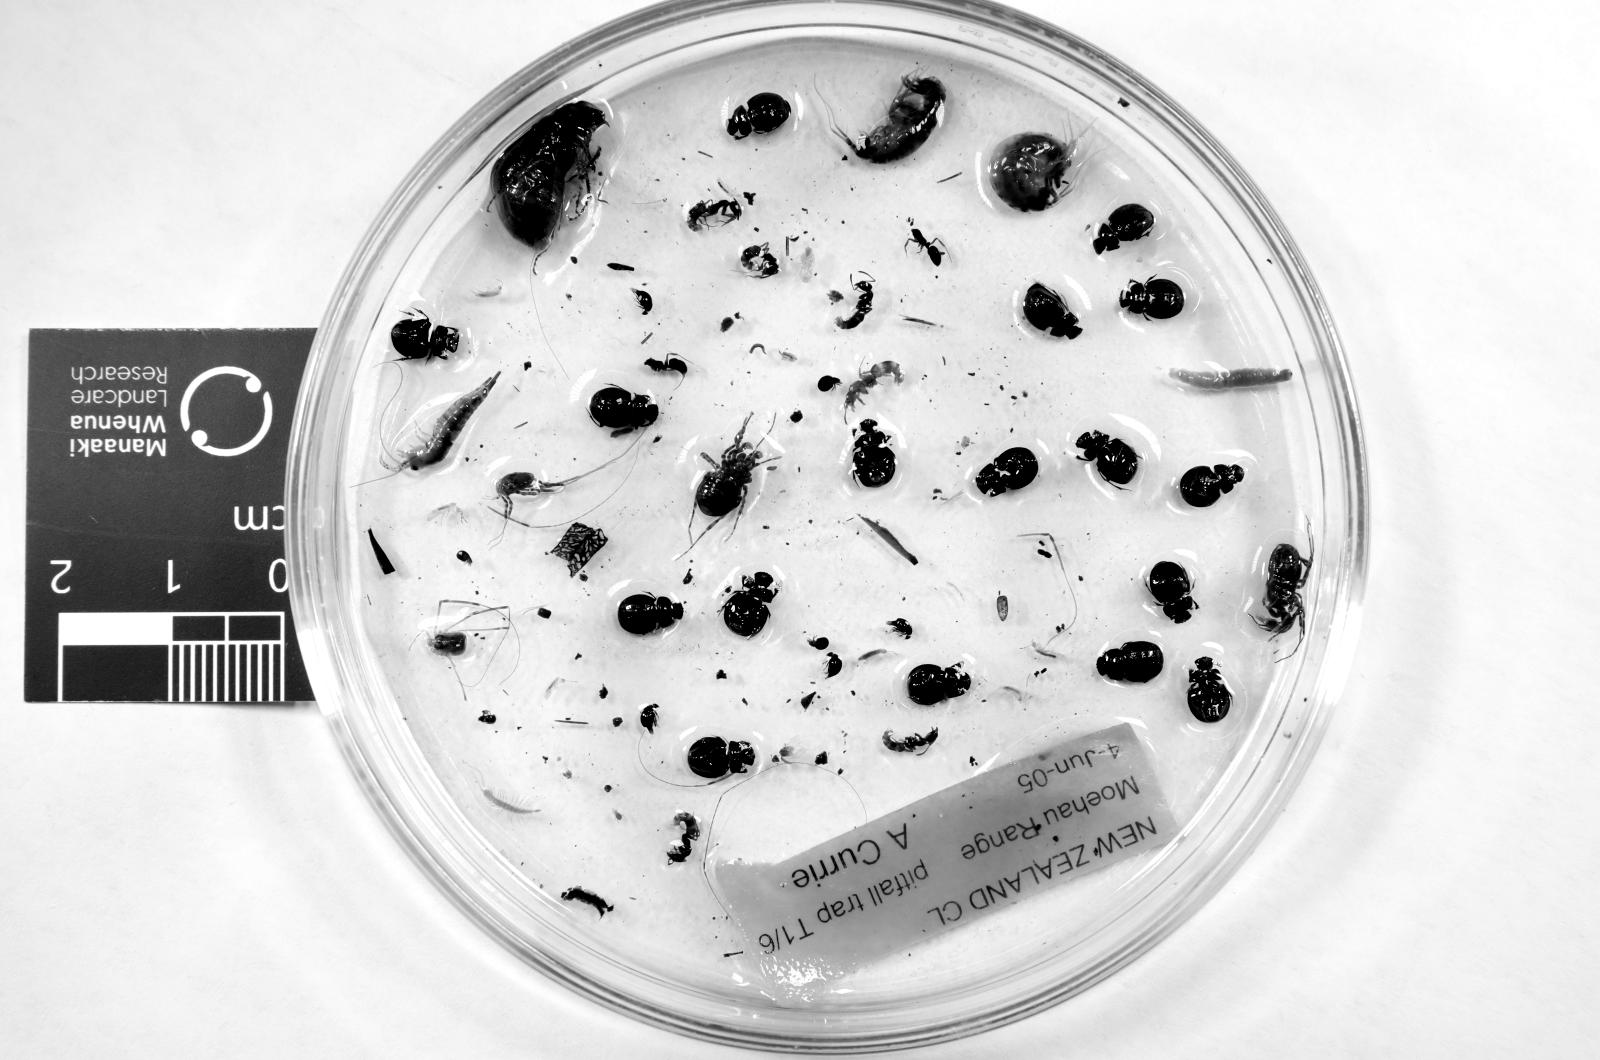amphipoda: (853, 75, 947, 164), (991, 134, 1069, 211)
archaeognatha: (407, 376, 497, 468)
chilopoda: (478, 780, 538, 816)
coleoptera: (491, 103, 607, 252), (721, 571, 778, 636), (1075, 432, 1138, 485), (588, 386, 660, 432), (1022, 283, 1081, 338), (974, 447, 1037, 497), (1147, 562, 1197, 625), (687, 736, 757, 780), (853, 419, 896, 487), (1094, 205, 1153, 254), (390, 317, 459, 360), (1187, 658, 1231, 724), (728, 93, 791, 140), (1119, 277, 1185, 319), (618, 593, 685, 634), (1097, 642, 1162, 684), (1178, 466, 1244, 506), (906, 665, 972, 705), (887, 618, 913, 640), (641, 705, 660, 733), (631, 289, 653, 314), (825, 652, 843, 677)
collembola: (428, 503, 462, 522), (1031, 642, 1065, 658), (1000, 686, 1022, 702), (475, 286, 500, 298)
formicidae: (843, 360, 903, 409), (687, 199, 740, 233), (666, 814, 700, 864), (835, 283, 872, 329), (881, 730, 938, 755), (740, 245, 778, 277)
opiliones: (694, 419, 763, 518), (1256, 537, 1313, 636), (497, 472, 582, 518), (432, 634, 466, 655)
